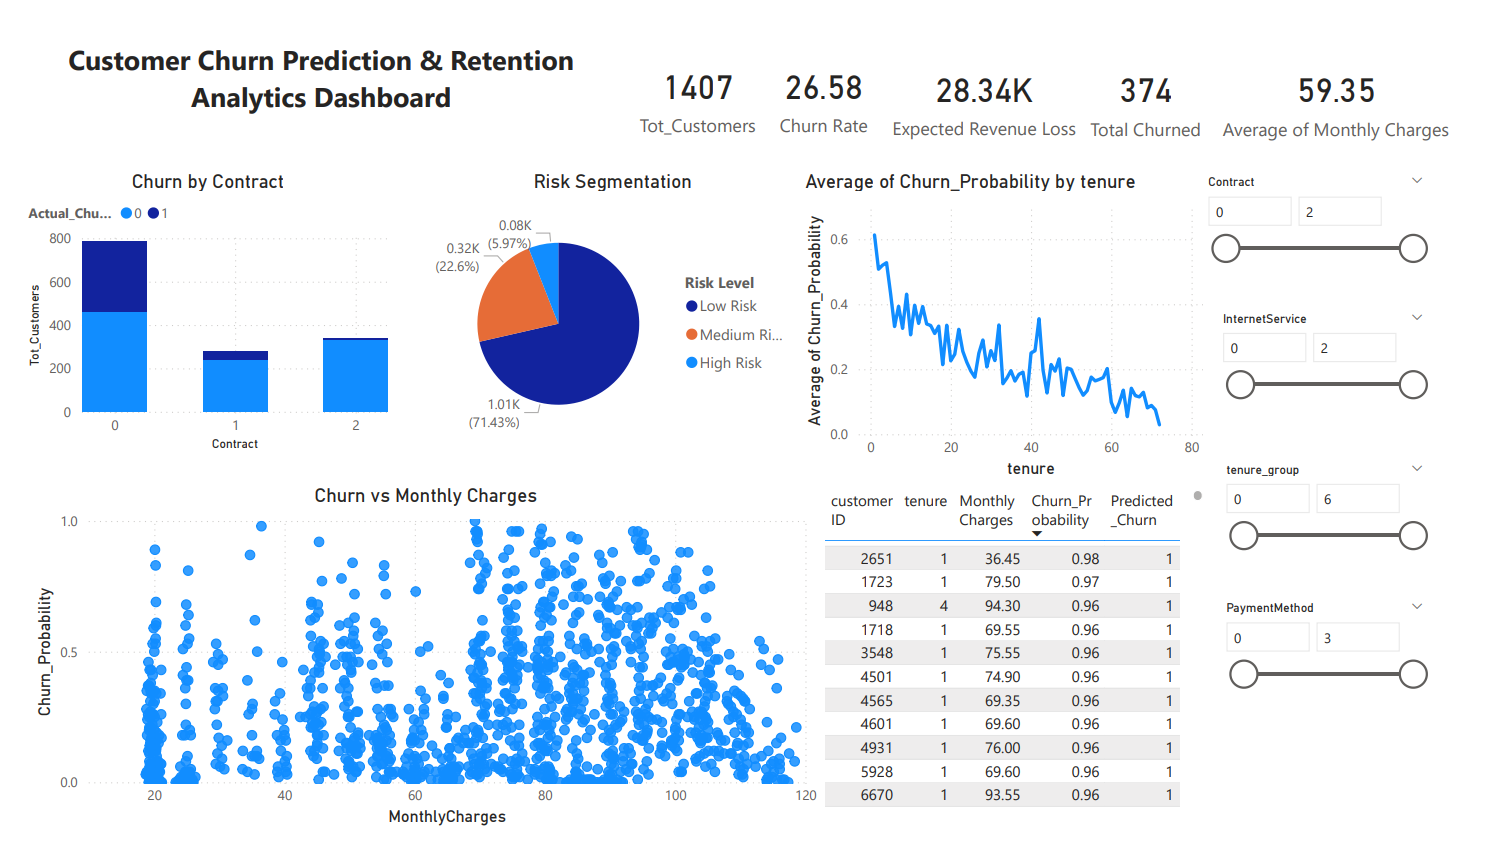

The dashboard page shown, as its layout file describes it:
{"tool":"powerbi","page":{"name":"Page 1","canvas":[1280,720],"ordinal":0},"visuals":[{"type":"card","fields":{"Values":["churn_predictions.Tot_Customers"]},"box":[535,25,129,84],"z":0},{"type":"card","fields":{"Values":["churn_predictions.Total Churned"]},"box":[939,28,117,81],"z":1000},{"type":"card","fields":{"Values":["churn_predictions.Churn Rate"]},"box":[664,25.3,95.5,84.2],"z":2000},{"type":"card","fields":{"Values":["Avg(churn_predictions.charges_per_month)"]},"box":[1052.9,28.1,227.4,84.2],"z":3000},{"type":"columnChart","title":"Churn by Contract","fields":{"Category":["churn_predictions.Contract"],"Series":["churn_predictions.Actual_Churn"],"Y":["churn_predictions.Tot_Customers"]},"box":[0,131,328.7,254.9],"z":4000},{"type":"scatterChart","title":"Churn vs Monthly Charges","fields":{"X":["churn_predictions.MonthlyCharges"],"Y":["churn_predictions.Churn_Probability"]},"box":[6,409.7,703.8,309.6],"z":4001},{"type":"lineChart","fields":{"Category":["churn_predictions.tenure"],"Y":["Avg(churn_predictions.Churn_Probability)"]},"box":[689.5,131,363.2,278.7],"z":4002},{"type":"tableEx","fields":{"Values":["churn_predictions.customerID","churn_predictions.tenure","churn_predictions.MonthlyCharges","churn_predictions.Churn_Probability","churn_predictions.Predicted_Churn"]},"box":[707.4,409.7,345.4,294.2],"z":4003},{"type":"pieChart","title":"Risk Segmentation","fields":{"Category":["churn_predictions.Risk Level"],"Y":["CountNonNull(churn_predictions.customerID)"]},"box":[358.5,131,331.1,254.9],"z":4005},{"type":"slicer","fields":{"Values":["churn_predictions.InternetService"]},"box":[1052.8,252.5,203.6,107.2],"z":4006},{"type":"slicer","fields":{"Values":["churn_predictions.Contract"]},"box":[1039.7,131,216.7,98.8],"z":4007},{"type":"slicer","fields":{"Values":["churn_predictions.tenure_group"]},"box":[1056.3,385.9,200.1,101.2],"z":4008},{"type":"slicer","fields":{"Values":["churn_predictions.PaymentMethod"]},"box":[1056.3,508.5,200.1,89.3],"z":4009},{"type":"card","fields":{"Values":["churn_predictions.Revenue at Risk"]},"box":[765,28,178,81],"z":4010},{"type":"textbox","box":[6,12,518,82],"z":4011}]}

Visuals, with their boxes in screenshot pixels (x1, y1, x2, y2), scaled from the page's 1280x720 canvas onto the 1487x854 screenshot:
card - churn_predictions.Tot_Customers: left=622, top=30, right=771, bottom=129
card - churn_predictions.Total Churned: left=1091, top=33, right=1227, bottom=129
card - churn_predictions.Churn Rate: left=771, top=30, right=882, bottom=130
card - Avg(churn_predictions.charges_per_month): left=1223, top=33, right=1486, bottom=133
"Churn by Contract" columnChart: left=0, top=155, right=382, bottom=458
"Churn vs Monthly Charges" scatterChart: left=7, top=486, right=825, bottom=853
lineChart - churn_predictions.tenure x Avg(churn_predictions.Churn_Probability): left=801, top=155, right=1223, bottom=486
tableEx - churn_predictions.customerID x churn_predictions.tenure: left=822, top=486, right=1223, bottom=835
"Risk Segmentation" pieChart: left=416, top=155, right=801, bottom=458
slicer - churn_predictions.InternetService: left=1223, top=299, right=1460, bottom=427
slicer - churn_predictions.Contract: left=1208, top=155, right=1460, bottom=273
slicer - churn_predictions.tenure_group: left=1227, top=458, right=1460, bottom=578
slicer - churn_predictions.PaymentMethod: left=1227, top=603, right=1460, bottom=709
card - churn_predictions.Revenue at Risk: left=889, top=33, right=1096, bottom=129
textbox: left=7, top=14, right=609, bottom=111
